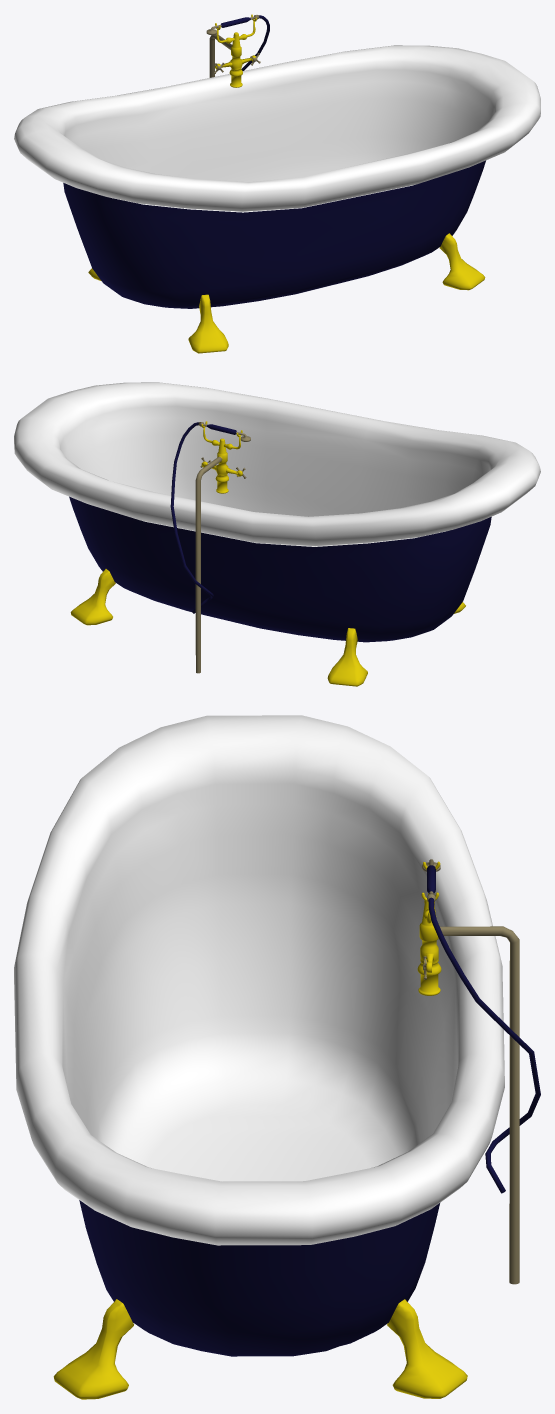
File: bath.dae
3 renders of one model, top to bottom at view 1: azimuth 30°, elevation 25°; view 2: azimuth 150°, elevation 25°; view 3: azimuth 270°, elevation 25°, orthographic. The views are drawn at different scales.
Visible parts, largest first — view 1: Cube_001; view 2: Cube_001; view 3: Cube_001.
Boxes of the visible parts, x1,y1,x2,y2 form: Cube_001: (14,14,540,353); Cube_001: (14,382,540,686); Cube_001: (14,715,540,1399).
Bounding box in the file's own units: 7.05 × 3.69 × 3.13.
